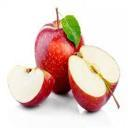apple: (67, 45, 122, 115)
